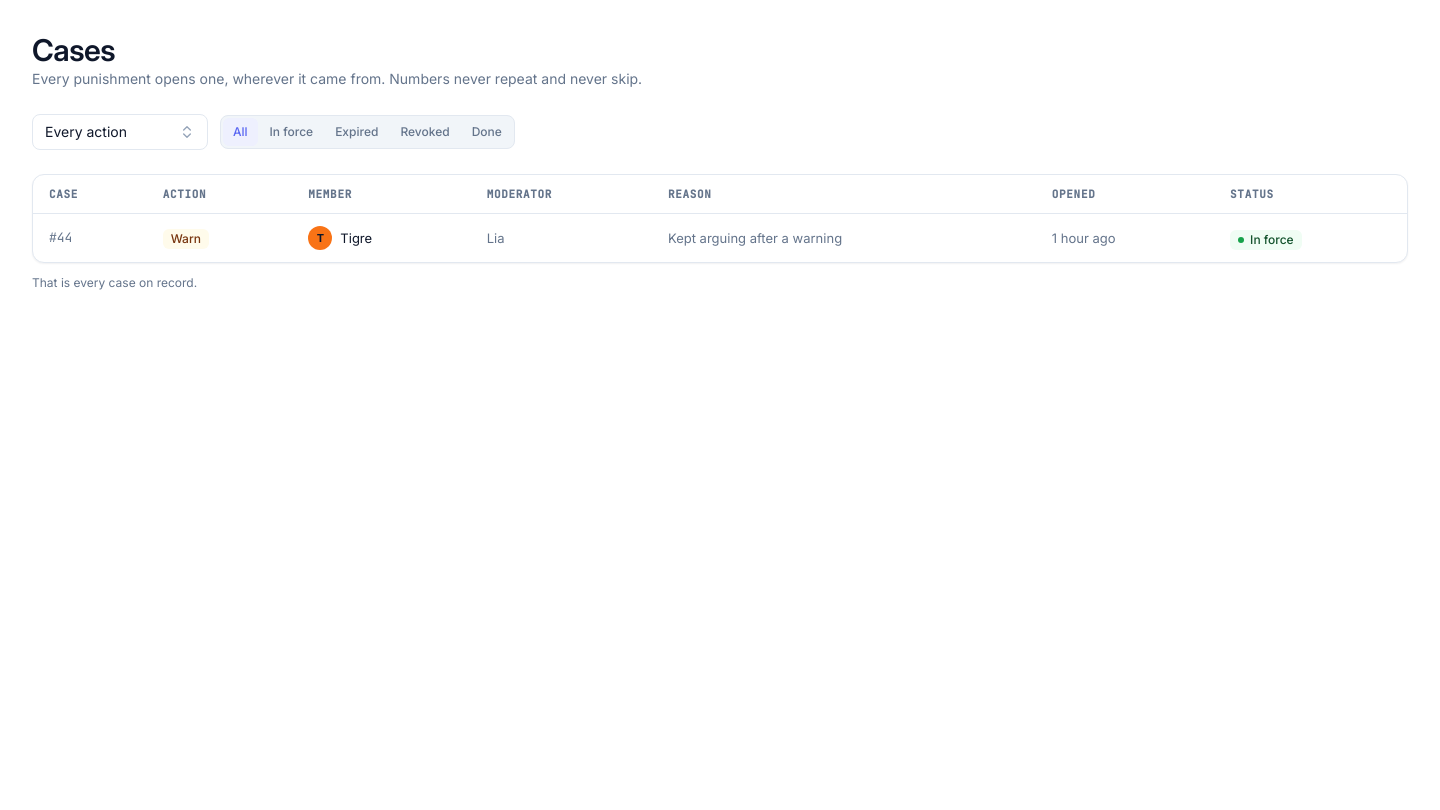
Test: undoing a case from the drawer › offers to withdraw a warning, which changes nothing in Discord
The width and height of the screenshot is (1440, 810).
Click the button with aria-label "Open case 44": {"x": 720, "y": 238} [33,214,1407,262]
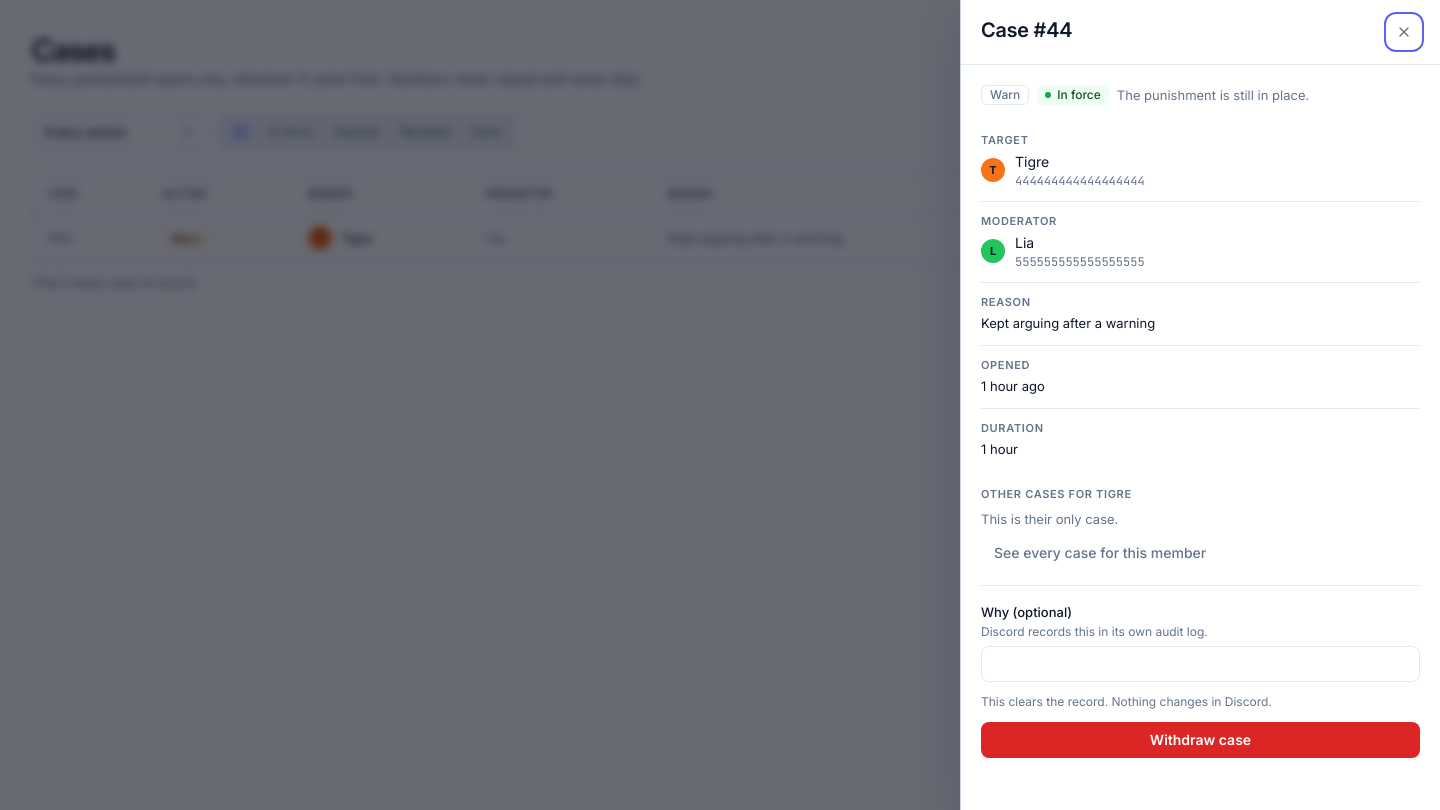
expect the dialog is shown: met, box [960,0,1439,809]
expect the button "Withdraw case" is shown: met, box [981,722,1420,758]
expect the text "This clears the record. Nothing changes in Discord." is shown: met, box [981,694,1272,709]
